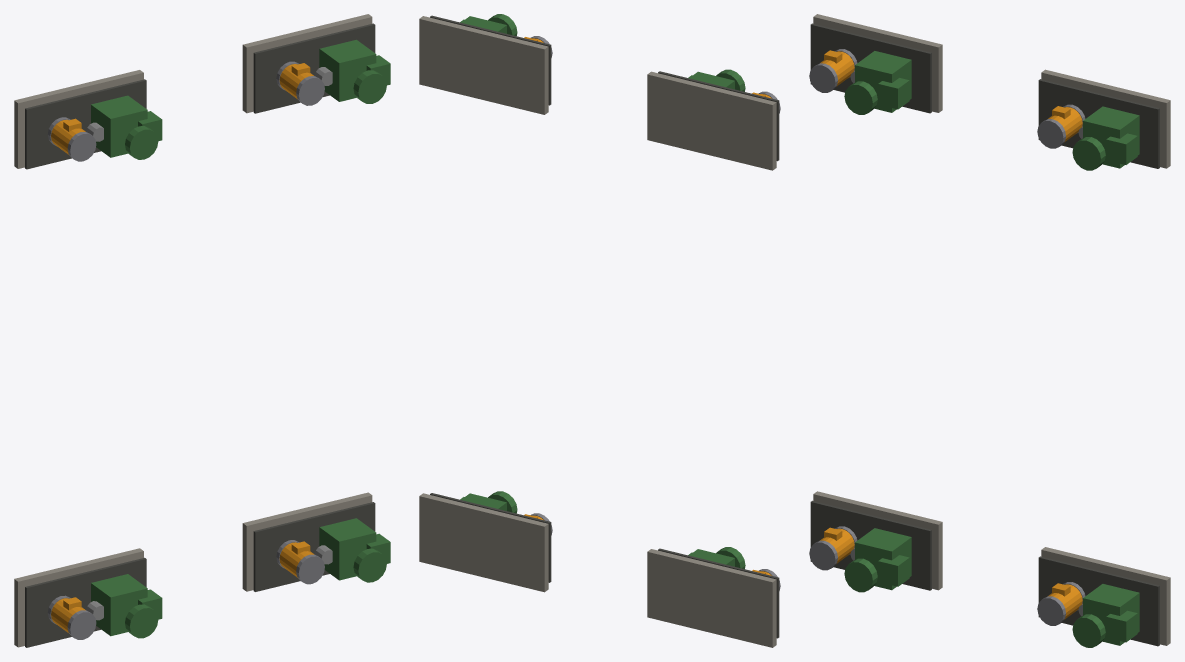
Rendered from EQ_01_MOTORS.obj.
The picture shows the model from 3 angles, left to right: view 1: azimuth 30°, elevation 25°; view 2: azimuth 150°, elevation 25°; view 3: azimuth 330°, elevation 25°; orthographic projection.
Parts seen in each view (by area): view 1: MOTOR_M02_Baseplate, MOTOR_M04_Baseplate, MOTOR_M03_Baseplate, MOTOR_M01_Baseplate, MOTOR_M02_FanHousing, MOTOR_M04_FanHousing, MOTOR_M03_FanHousing, MOTOR_M01_FanHousing, MOTOR_M04_Pad, MOTOR_M02_Pad, MOTOR_M01_Pad, MOTOR_M03_Pad (+8 smaller); view 2: MOTOR_M02_Pad, MOTOR_M01_Pad, MOTOR_M03_Pad, MOTOR_M04_Pad, MOTOR_M03_Baseplate, MOTOR_M01_Baseplate, MOTOR_M02_Baseplate, MOTOR_M04_Baseplate; view 3: MOTOR_M01_Baseplate, MOTOR_M04_Baseplate, MOTOR_M02_Baseplate, MOTOR_M03_Baseplate, MOTOR_M04_Pad, MOTOR_M03_Pad, MOTOR_M01_Pad, MOTOR_M02_Pad, MOTOR_M03_FanHousing, MOTOR_M01_FanHousing, MOTOR_M02_FanHousing, MOTOR_M04_FanHousing (+12 smaller).
Part boxes in pixels (<box>): MOTOR_M02_Baseplate: <box>253,502,375,591</box>; MOTOR_M04_Baseplate: <box>253,23,375,113</box>; MOTOR_M03_Baseplate: <box>25,79,146,169</box>; MOTOR_M01_Baseplate: <box>25,557,146,647</box>; MOTOR_M02_FanHousing: <box>319,518,376,580</box>; MOTOR_M04_FanHousing: <box>319,39,376,101</box>; MOTOR_M03_FanHousing: <box>91,95,147,157</box>; MOTOR_M01_FanHousing: <box>91,574,147,636</box>; MOTOR_M04_Pad: <box>242,14,372,113</box>; MOTOR_M02_Pad: <box>242,492,372,591</box>; MOTOR_M01_Pad: <box>14,548,143,647</box>; MOTOR_M03_Pad: <box>14,70,143,168</box>; MOTOR_M02_Pad: <box>419,493,548,592</box>; MOTOR_M01_Pad: <box>647,549,776,647</box>; MOTOR_M03_Pad: <box>647,71,776,170</box>; MOTOR_M04_Pad: <box>419,16,548,114</box>; MOTOR_M03_Baseplate: <box>658,71,779,161</box>; MOTOR_M01_Baseplate: <box>658,548,779,638</box>; MOTOR_M02_Baseplate: <box>430,493,551,582</box>; MOTOR_M04_Baseplate: <box>430,15,551,105</box>; MOTOR_M01_Baseplate: <box>810,500,931,590</box>; MOTOR_M04_Baseplate: <box>1038,79,1159,168</box>; MOTOR_M02_Baseplate: <box>1038,556,1159,646</box>; MOTOR_M03_Baseplate: <box>810,23,931,113</box>; MOTOR_M04_Pad: <box>1041,69,1170,168</box>; MOTOR_M03_Pad: <box>813,14,942,112</box>; MOTOR_M01_Pad: <box>813,491,942,590</box>; MOTOR_M02_Pad: <box>1041,547,1170,645</box>; MOTOR_M03_FanHousing: <box>855,51,911,112</box>; MOTOR_M01_FanHousing: <box>855,528,911,590</box>; MOTOR_M02_FanHousing: <box>1083,584,1139,645</box>; MOTOR_M04_FanHousing: <box>1083,106,1139,168</box>.
Bounding box in the file's own units: 6.2 × 9.1 × 1.34.
